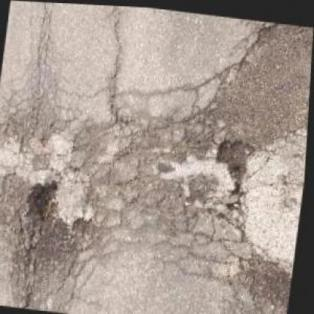Hueco: (24, 176, 64, 223), (214, 133, 260, 170)
